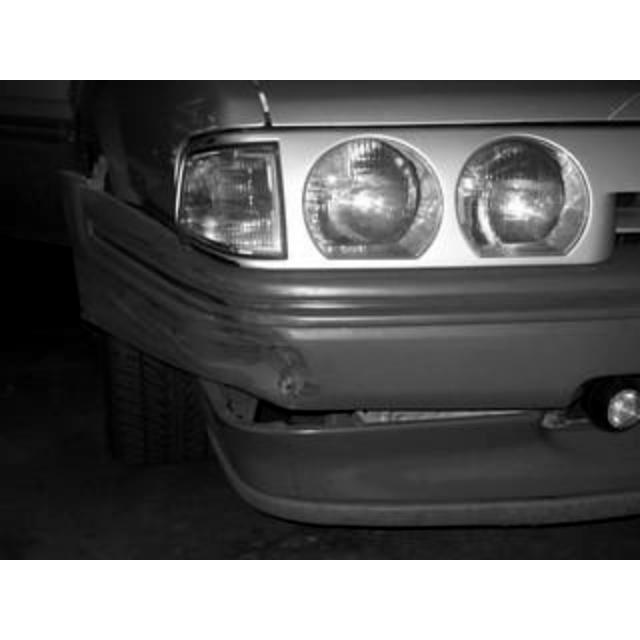rear-bumper-dent: (64, 196, 350, 408)
